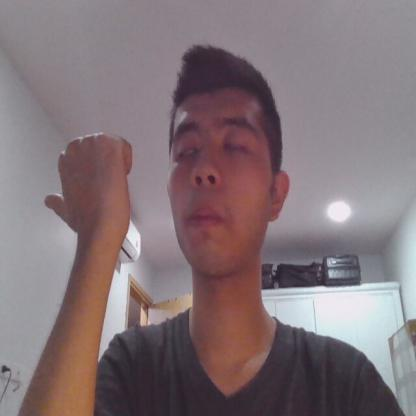right: (42, 132, 137, 240)
